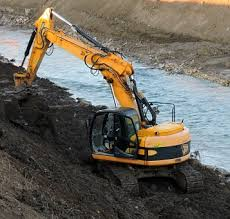excavator: (10, 8, 204, 197)
